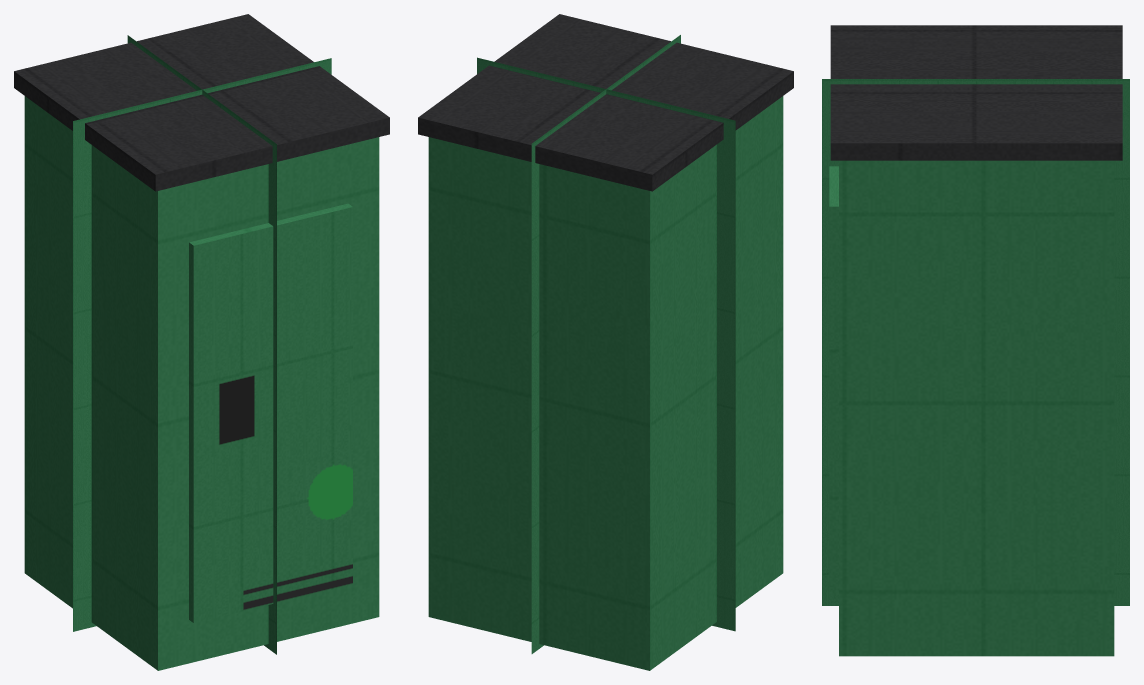
Rendered from portapotty_green.dae.
3 renders of one model, left to right at view 1: azimuth 30°, elevation 25°; view 2: azimuth 150°, elevation 25°; view 3: azimuth 270°, elevation 25°, orthographic. The views are drawn at different scales.
Parts seen in each view (by area): view 1: portapotty_green_a800, portapotty_green_a200, portapotty_green_a50; view 2: portapotty_green_a800, portapotty_green_a200, portapotty_green_a50; view 3: portapotty_green_a800, portapotty_green_a200, portapotty_green_a50.
Boxes of the visible parts, bbox=[...] form: portapotty_green_a800: bbox=[14, 14, 389, 670]; portapotty_green_a200: bbox=[29, 138, 379, 670]; portapotty_green_a50: bbox=[73, 35, 331, 654]; portapotty_green_a800: bbox=[418, 14, 793, 670]; portapotty_green_a200: bbox=[428, 98, 783, 670]; portapotty_green_a50: bbox=[477, 35, 735, 653]; portapotty_green_a800: bbox=[829, 25, 1122, 656]; portapotty_green_a200: bbox=[839, 160, 1111, 656]; portapotty_green_a50: bbox=[822, 79, 1129, 605].
Size of the model in its own units: 1.29 by 1.29 by 2.43.
Materials: 4 (3 with a texture image).
